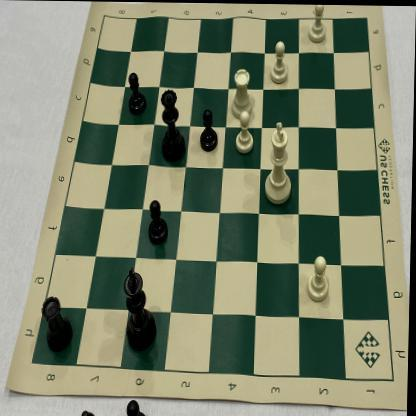black-king: (123, 264, 161, 356)
black-pawn: (146, 197, 171, 247), (198, 107, 219, 153), (128, 69, 147, 116)
black-queen: (159, 84, 188, 164)
black-rook: (41, 294, 77, 356)
white-king: (263, 119, 297, 208)
white-pawn: (307, 254, 334, 305), (235, 107, 259, 157), (268, 37, 292, 85), (306, 4, 330, 46)
white-rook: (229, 65, 256, 122)
